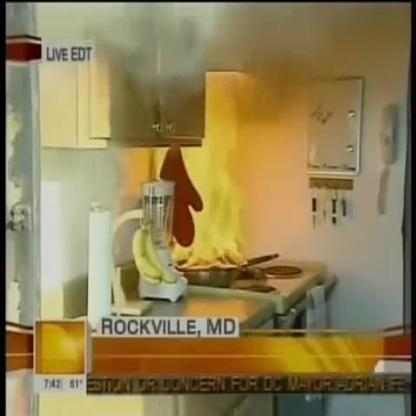fire: (181, 136, 245, 271)
